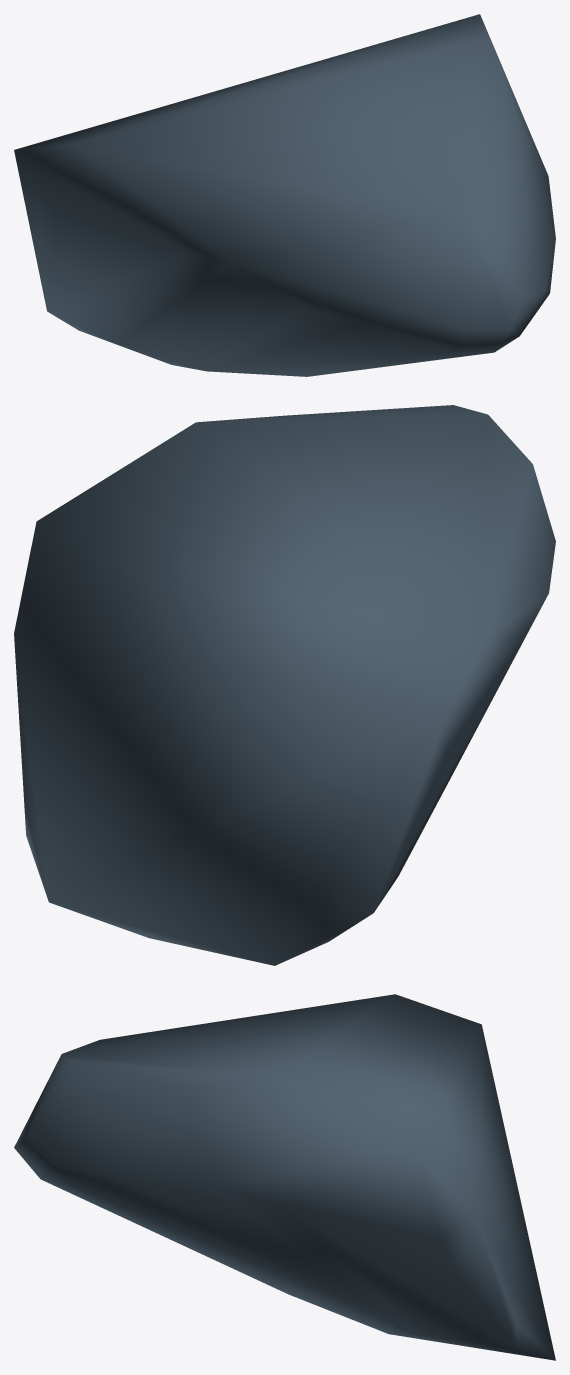
File: eholovec-chelyust.glb
The picture shows the model from 3 angles, top to bottom: view 1: azimuth 30°, elevation 25°; view 2: azimuth 150°, elevation 25°; view 3: azimuth 270°, elevation 25°; orthographic projection. The views are drawn at different scales.
Parts seen in each view (by area): view 1: eholovec-chelyust; view 2: eholovec-chelyust; view 3: eholovec-chelyust.
Part boxes in pixels (x1=…): eholovec-chelyust: x1=14, y1=14, x2=555, y2=376; eholovec-chelyust: x1=14, y1=405, x2=555, y2=965; eholovec-chelyust: x1=14, y1=994, x2=555, y2=1360.
Bounding box in the file's own units: 0.3246 × 0.2619 × 0.4135.
1 material, 1 textured.
